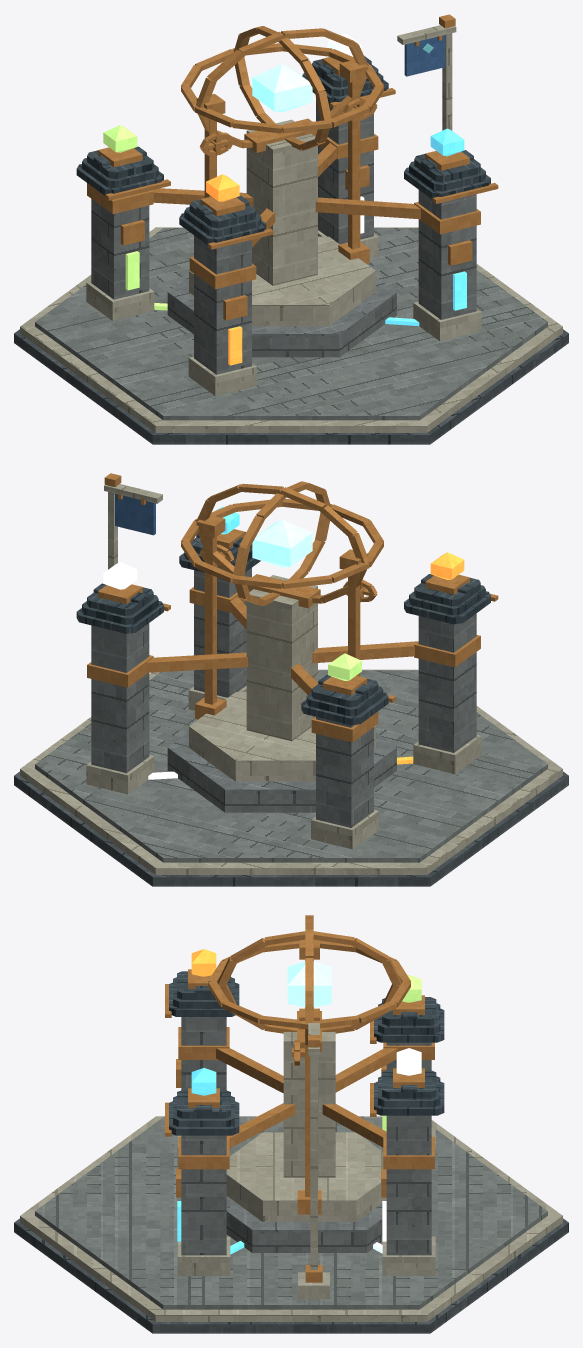
File: dwarf_elemental_ritual_hex_v1.glb
3 renders of one model, top to bottom at view 1: azimuth 30°, elevation 25°; view 2: azimuth 150°, elevation 25°; view 3: azimuth 270°, elevation 25°, orthographic.
Parts seen in each view (by area): view 1: Dwarf_Elemental_Ritual_Hex_V1_Foundation, Dwarf_Elemental_Ritual_Hex_V1_Focus, Dwarf_Elemental_Ritual_Hex_V1_Hall, Dwarf_Elemental_Ritual_Hex_V1_Roofs, Dwarf_Elemental_Ritual_Hex_V1_Courtyard, Dwarf_Elemental_Ritual_Hex_V1_Faction, Dwarf_Elemental_Ritual_Hex_V1_Details; view 2: Dwarf_Elemental_Ritual_Hex_V1_Foundation, Dwarf_Elemental_Ritual_Hex_V1_Focus, Dwarf_Elemental_Ritual_Hex_V1_Hall, Dwarf_Elemental_Ritual_Hex_V1_Roofs, Dwarf_Elemental_Ritual_Hex_V1_Courtyard, Dwarf_Elemental_Ritual_Hex_V1_Faction; view 3: Dwarf_Elemental_Ritual_Hex_V1_Foundation, Dwarf_Elemental_Ritual_Hex_V1_Focus, Dwarf_Elemental_Ritual_Hex_V1_Hall, Dwarf_Elemental_Ritual_Hex_V1_Roofs, Dwarf_Elemental_Ritual_Hex_V1_Courtyard, Dwarf_Elemental_Ritual_Hex_V1_Faction, Dwarf_Elemental_Ritual_Hex_V1_Details.
Part boxes in pixels (<box>): Dwarf_Elemental_Ritual_Hex_V1_Foundation: <box>14,227,568,444</box>; Dwarf_Elemental_Ritual_Hex_V1_Focus: <box>87,26,480,365</box>; Dwarf_Elemental_Ritual_Hex_V1_Hall: <box>86,98,481,395</box>; Dwarf_Elemental_Ritual_Hex_V1_Roofs: <box>76,56,498,249</box>; Dwarf_Elemental_Ritual_Hex_V1_Courtyard: <box>167,277,396,357</box>; Dwarf_Elemental_Ritual_Hex_V1_Faction: <box>397,14,456,130</box>; Dwarf_Elemental_Ritual_Hex_V1_Details: <box>120,165,472,320</box>; Dwarf_Elemental_Ritual_Hex_V1_Foundation: <box>14,669,568,886</box>; Dwarf_Elemental_Ritual_Hex_V1_Focus: <box>87,481,480,781</box>; Dwarf_Elemental_Ritual_Hex_V1_Hall: <box>86,568,481,849</box>; Dwarf_Elemental_Ritual_Hex_V1_Roofs: <box>76,532,498,725</box>; Dwarf_Elemental_Ritual_Hex_V1_Courtyard: <box>167,732,396,812</box>; Dwarf_Elemental_Ritual_Hex_V1_Faction: <box>104,473,162,569</box>; Dwarf_Elemental_Ritual_Hex_V1_Foundation: <box>14,1116,568,1333</box>; Dwarf_Elemental_Ritual_Hex_V1_Focus: <box>177,915,434,1241</box>; Dwarf_Elemental_Ritual_Hex_V1_Hall: <box>177,1017,435,1275</box>; Dwarf_Elemental_Ritual_Hex_V1_Roofs: <box>165,971,444,1136</box>; Dwarf_Elemental_Ritual_Hex_V1_Courtyard: <box>226,1196,386,1252</box>; Dwarf_Elemental_Ritual_Hex_V1_Faction: <box>298,1023,329,1299</box>; Dwarf_Elemental_Ritual_Hex_V1_Details: <box>176,1059,386,1197</box>.
Bounding box in the file's own units: 1.59 × 1.11 × 1.84.
1 material, 1 textured.
